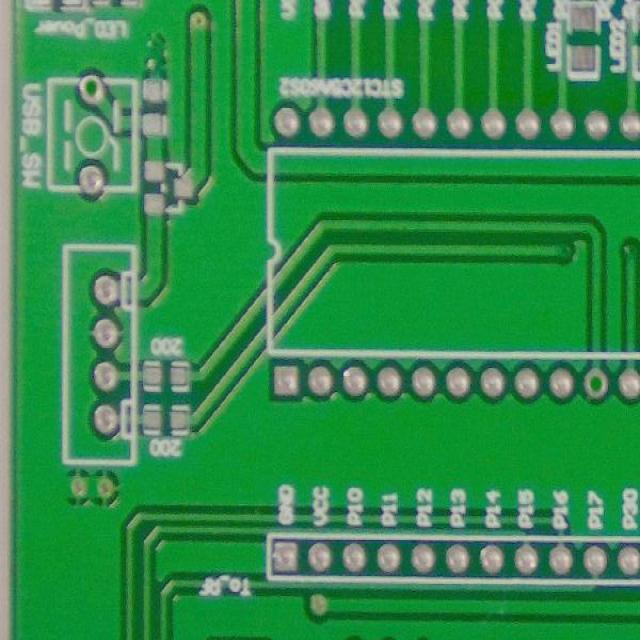missing hole: (578, 361, 611, 412), (74, 69, 106, 108)
